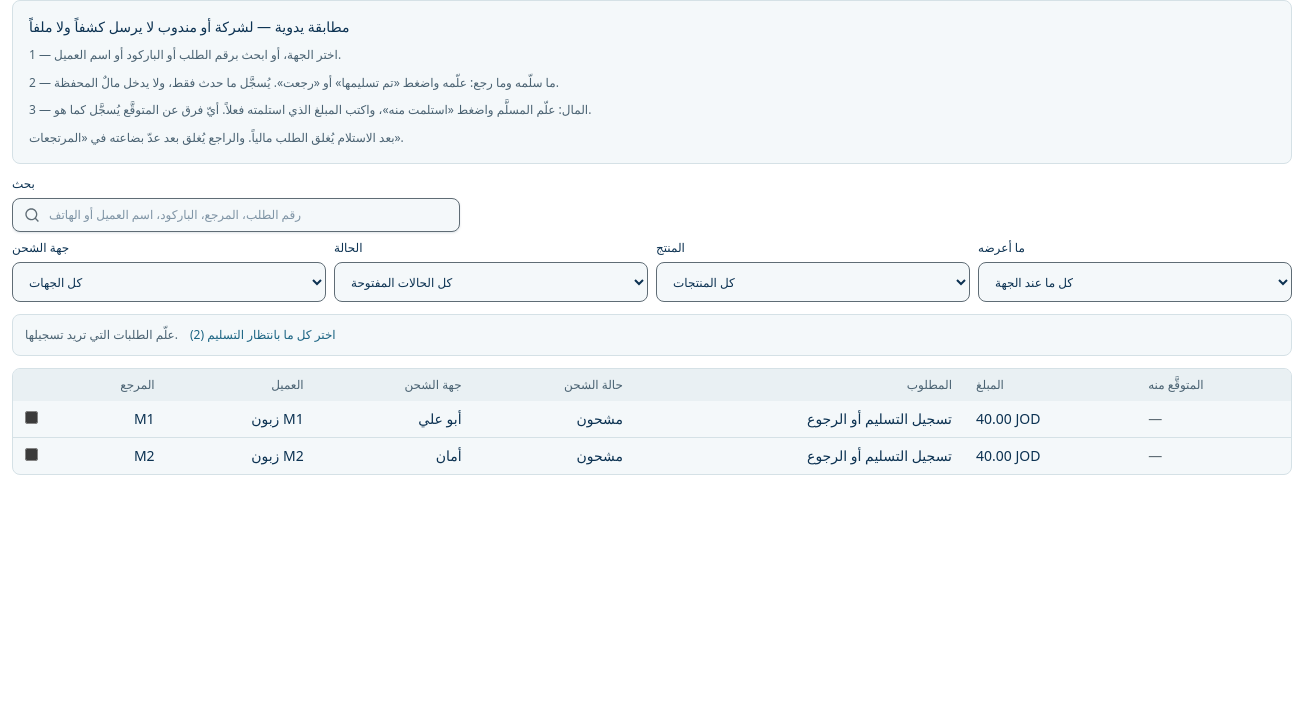
what the ticked parcels ask for › two couriers are fine for an OUTCOME — each order stands alone at the door
Expected: the dropdown labelled "جهة الشحن" is shown, left=12, top=262, right=326, bottom=302
Expected: the row "M1 زبون M1 أبو علي مشحون تسجيل التسليم أو الرجوع 40.00 JOD —" is shown, left=13, top=401, right=1291, bottom=438
Click the checkbox named "اختر السجل" in the row of "زبون M1" at (32, 418), box left=25, top=411, right=38, bottom=424
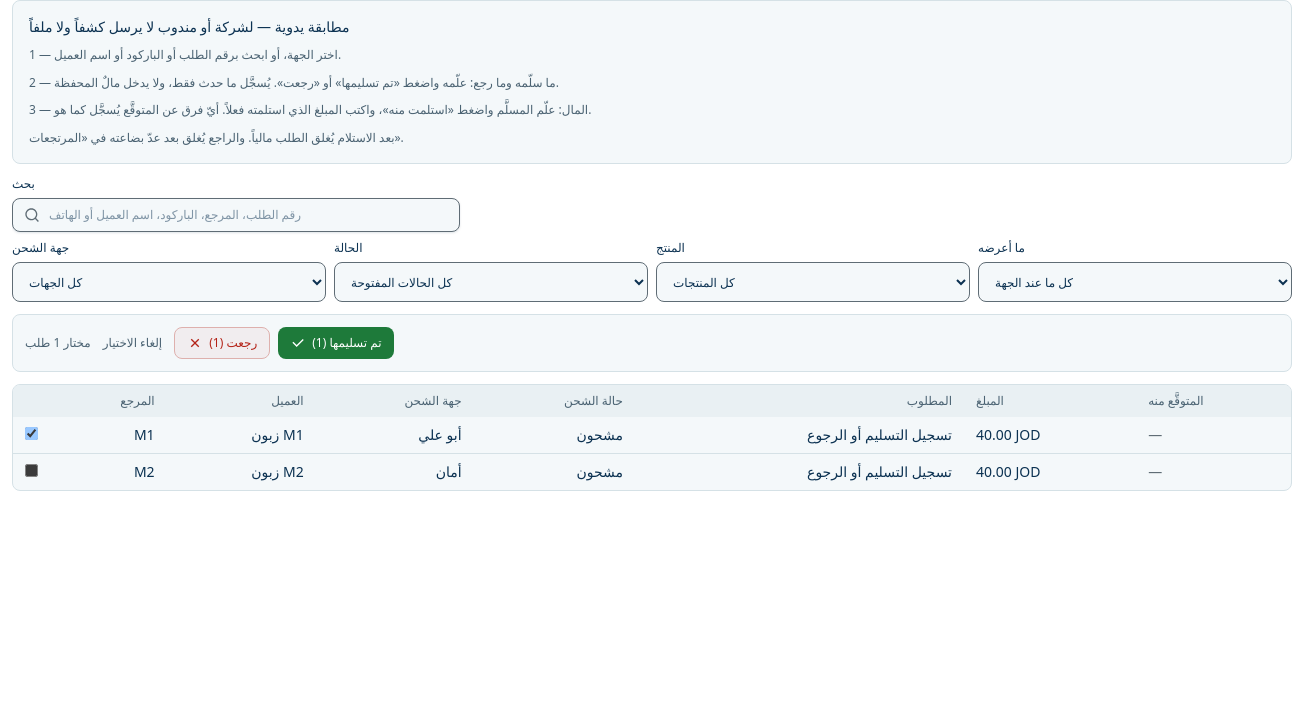
Click the checkbox named "اختر السجل" at (32, 470), box left=25, top=464, right=38, bottom=477
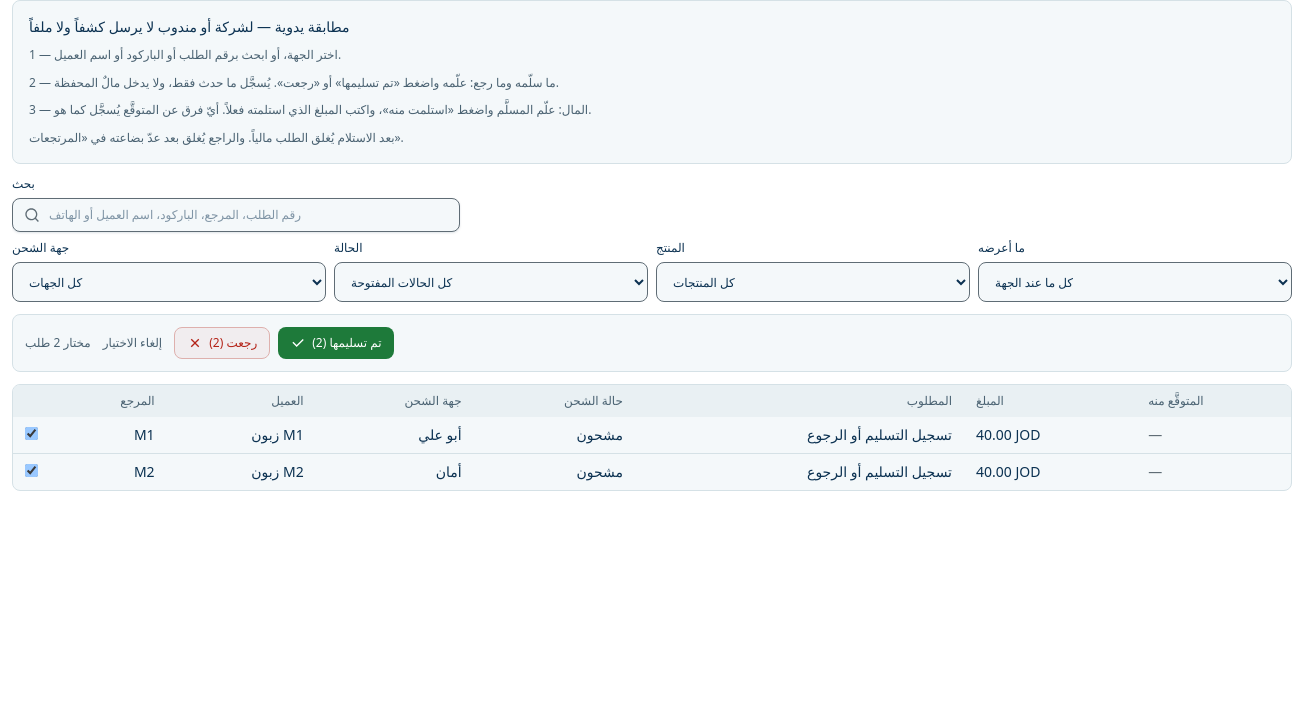
Expected: the button "تم تسليمها (2)" is shown, left=278, top=327, right=394, bottom=359
